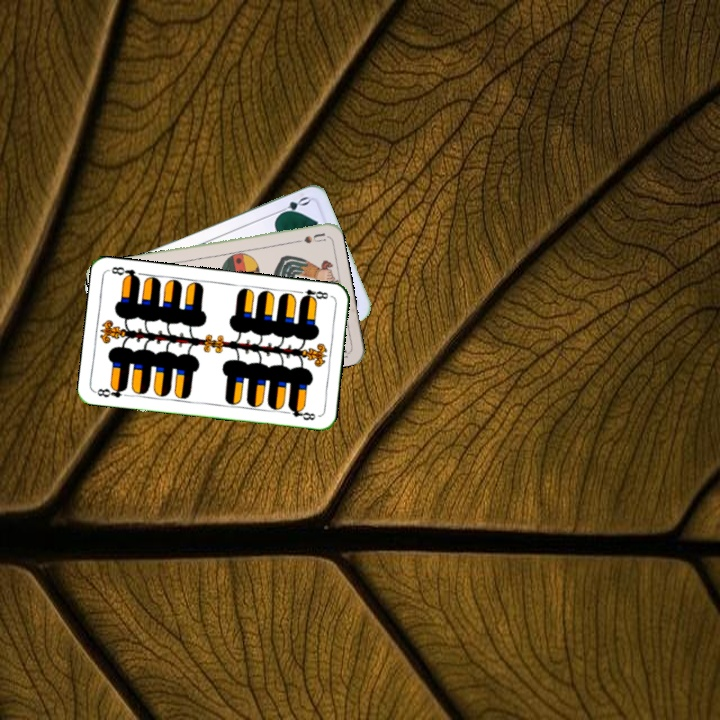E8: (293, 285, 333, 304), (92, 382, 129, 400)
GO: (273, 192, 312, 219)
SU: (286, 229, 327, 246)
